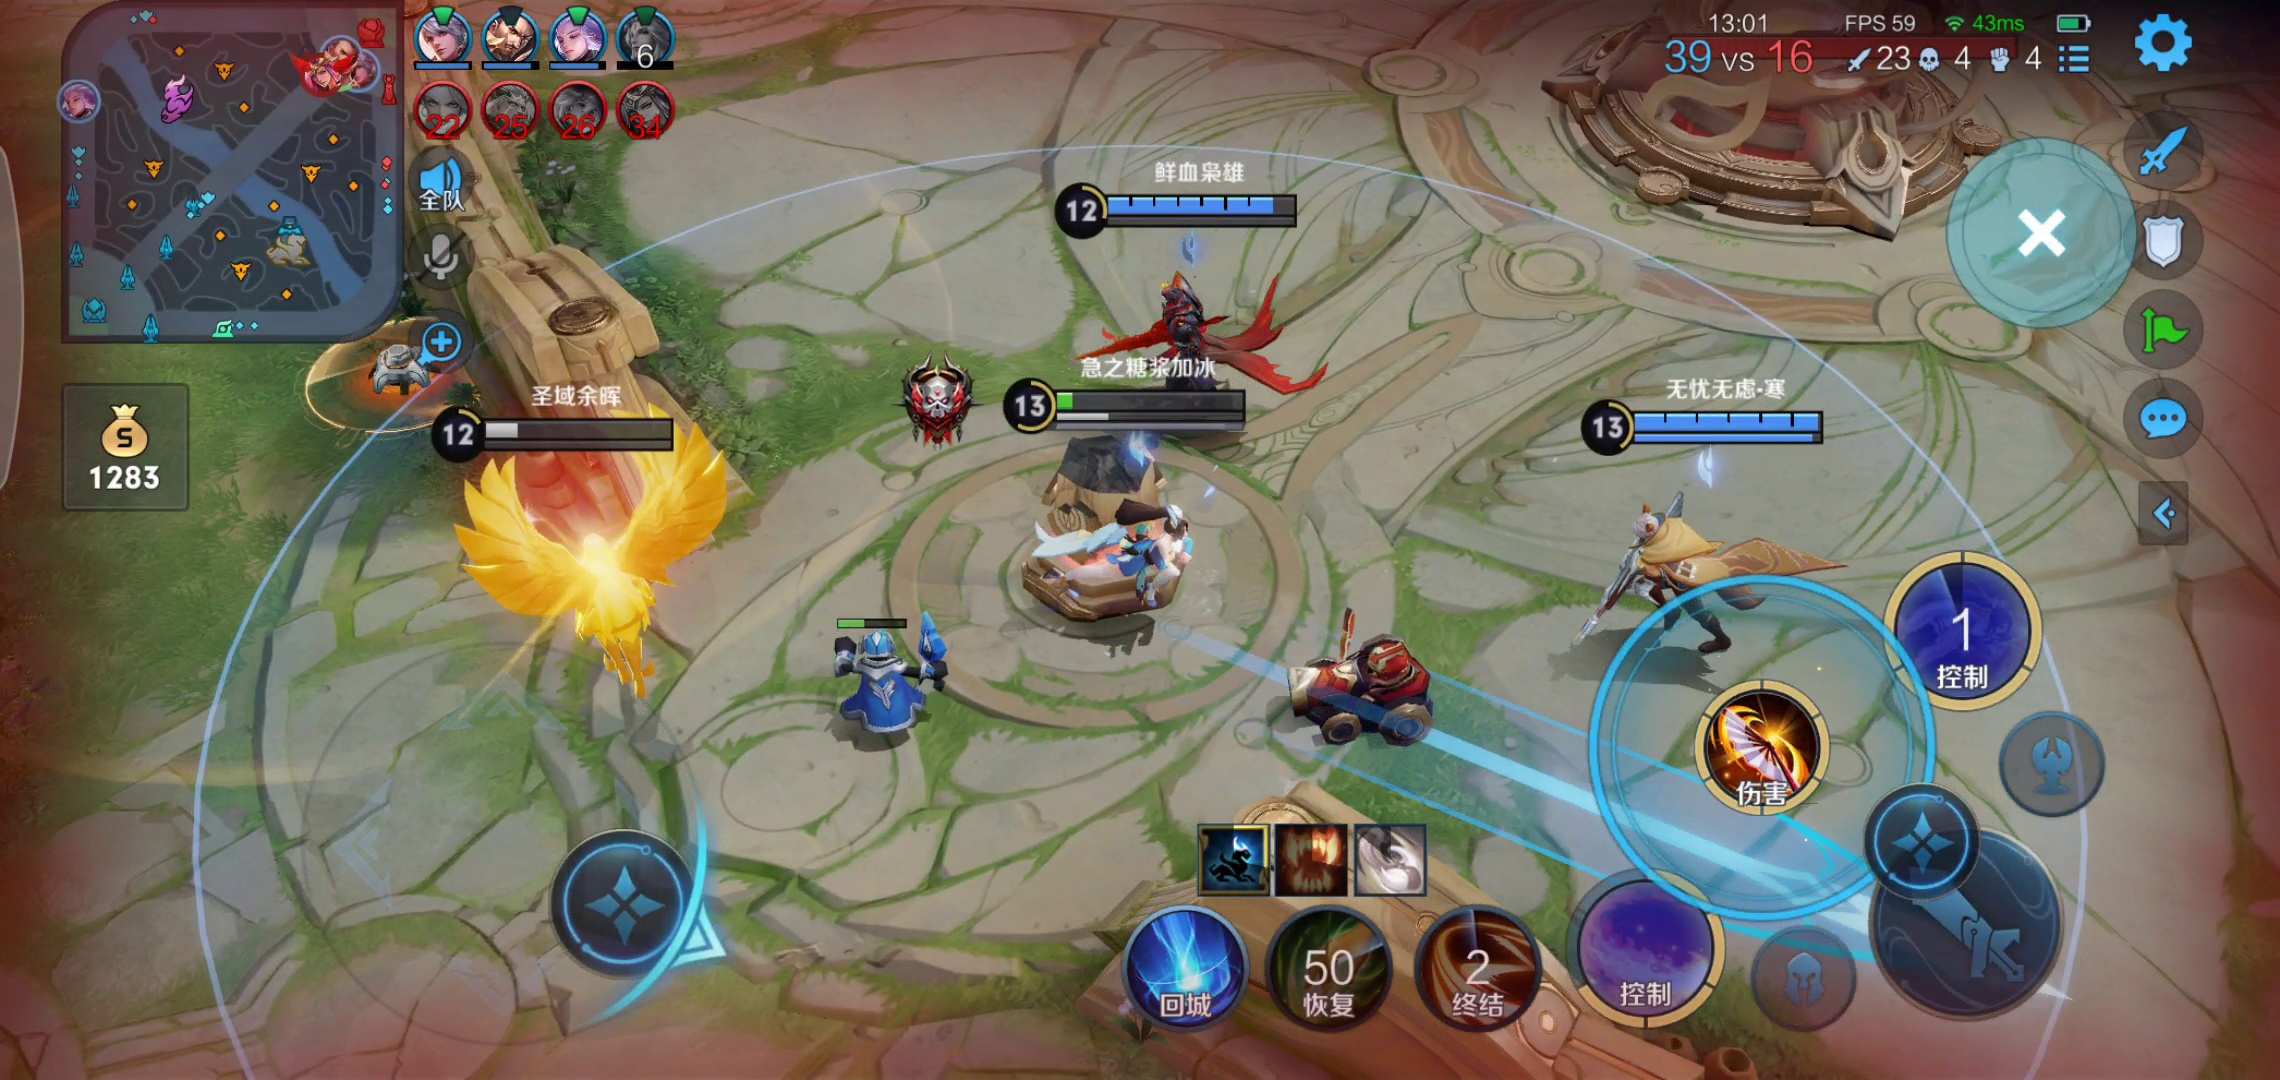crystal: (1541, 1, 2039, 233)
hero: (457, 471, 715, 682), (1569, 501, 1847, 673), (1077, 251, 1304, 433), (1063, 499, 1192, 621)
soldier: (1284, 606, 1458, 756), (811, 606, 976, 744)
